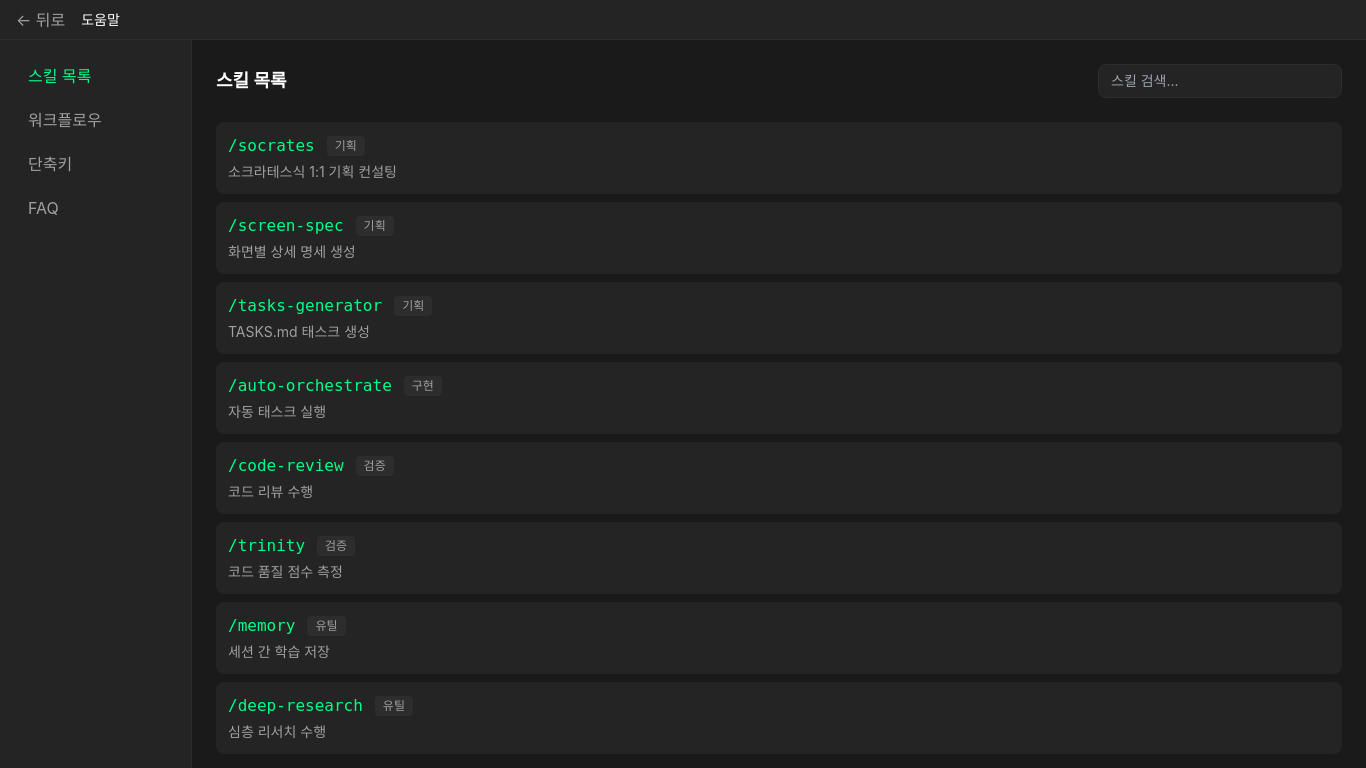
Test case: HelpPage › 2. 탭 전환 › should switch to shortcuts tab when clicked
Click the button "단축키": (96, 164) [16,144,175,184]
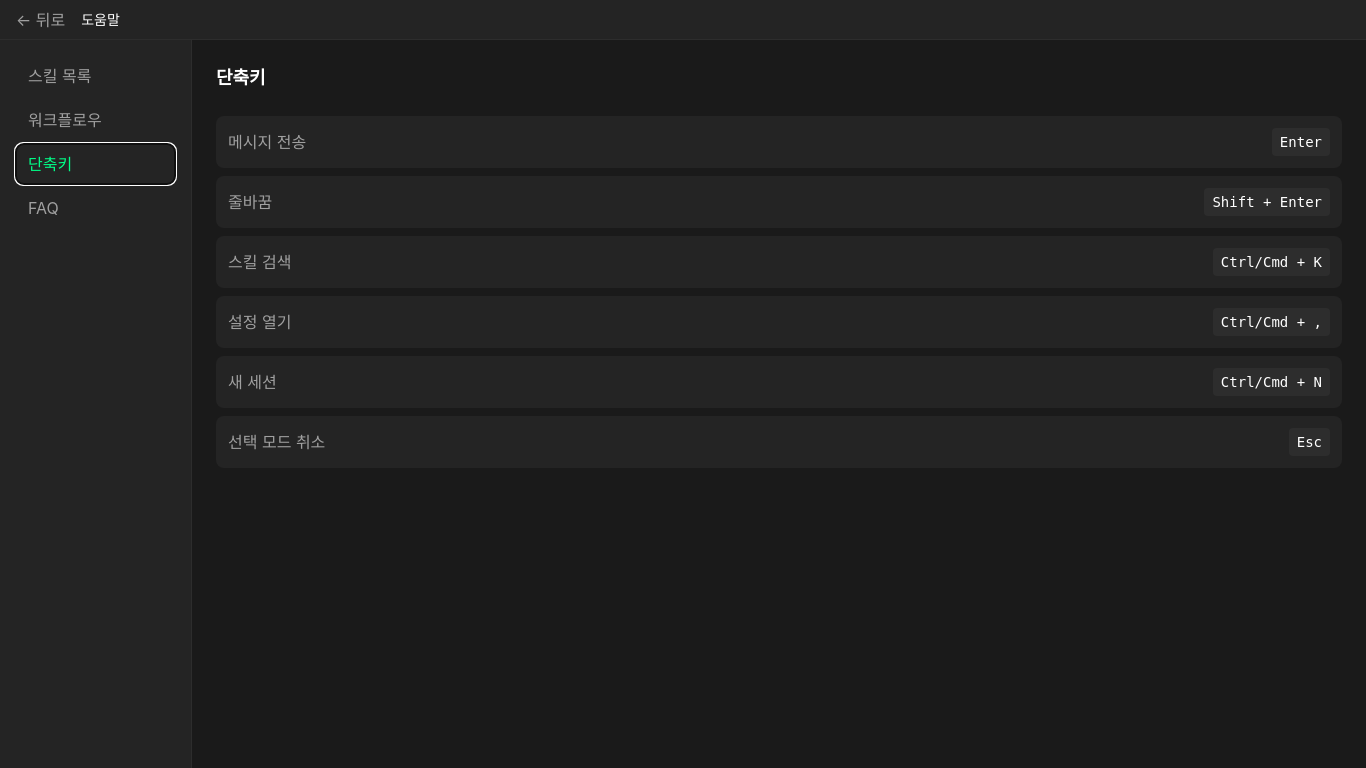
Expected: the text "메시지 전송" is shown, [228,130,306,154]
Expected: the text "Enter" is shown, [1272,128,1330,156]
